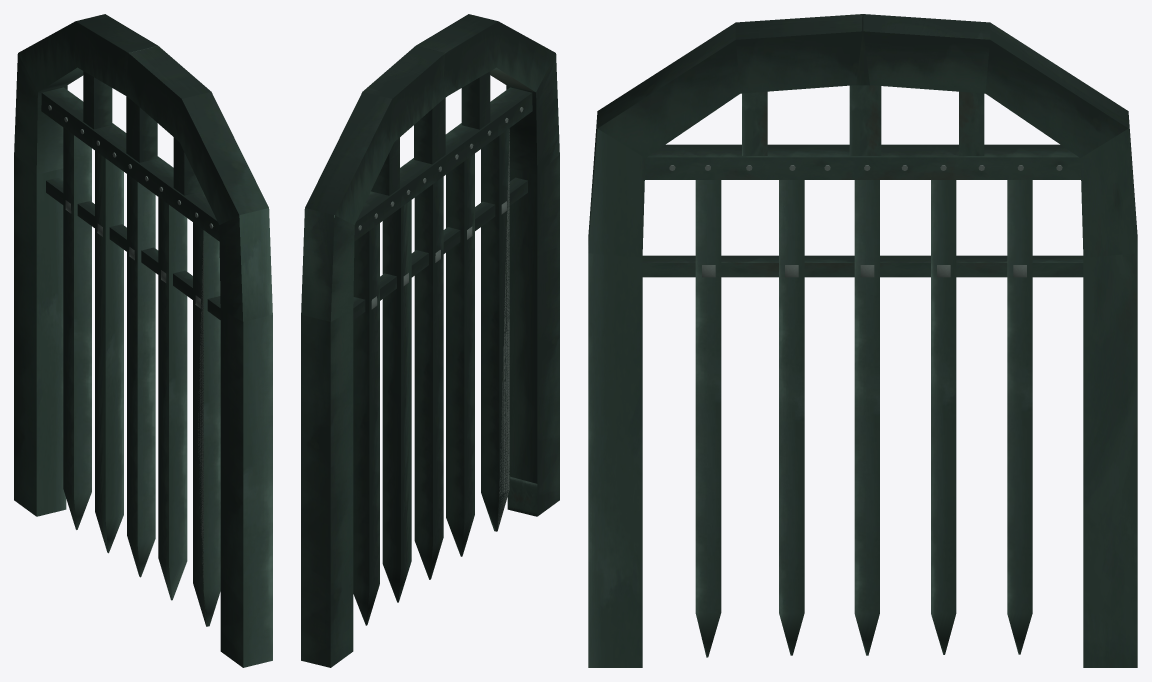
File: Door_with_bars_one_object2.fbx
3 views of the same model, side by side, from view 1: azimuth 30°, elevation 25°; view 2: azimuth 150°, elevation 25°; view 3: azimuth 270°, elevation 25° (orthographic). The views are drawn at different scales.
Visible parts, largest first — view 1: Cylinder_1; view 2: Cylinder_1; view 3: Cylinder_1.
Boxes of the visible parts, left/top/right/bottom form: Cylinder_1: left=14, top=14, right=272, bottom=667; Cylinder_1: left=301, top=14, right=559, bottom=667; Cylinder_1: left=588, top=14, right=1137, bottom=667.
Size of the model in its own units: 47.92 by 818 by 640.
4 materials, 4 textured.
